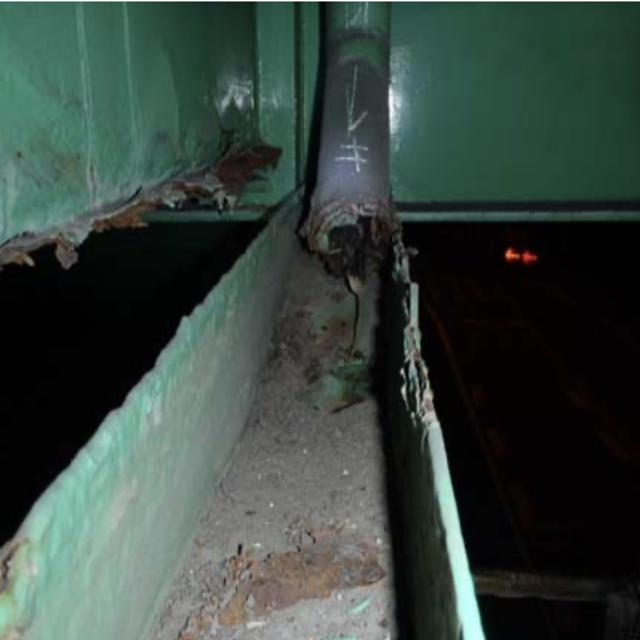corrosion: (29, 91, 277, 272), (293, 186, 407, 363)
